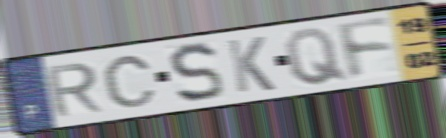C: (101, 54, 159, 110)
F: (334, 16, 397, 84)
K: (224, 34, 278, 95)
Q: (282, 27, 349, 88)
R: (43, 60, 105, 120)
S: (166, 41, 226, 106)
